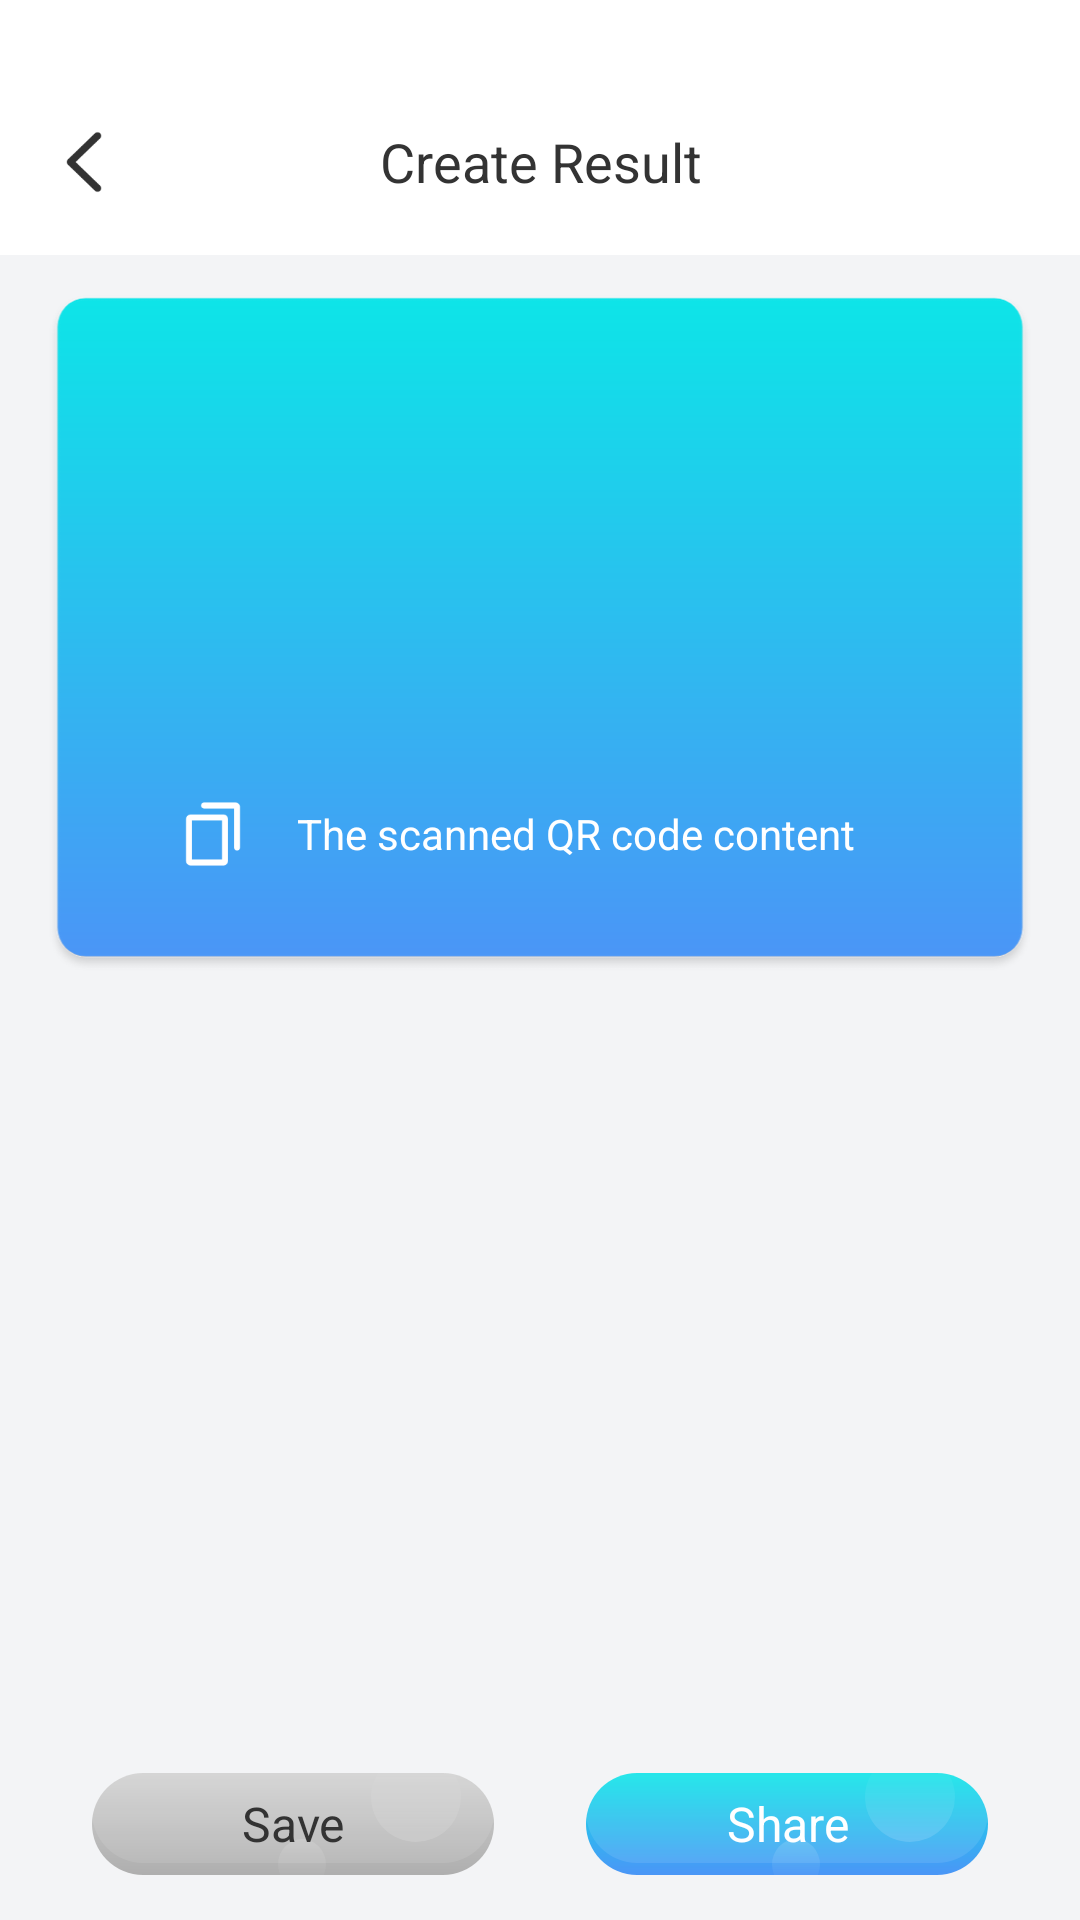

Screen size 1080x1920. Icon name, then its center in pixels as [x,y]:
back: [84,162]
